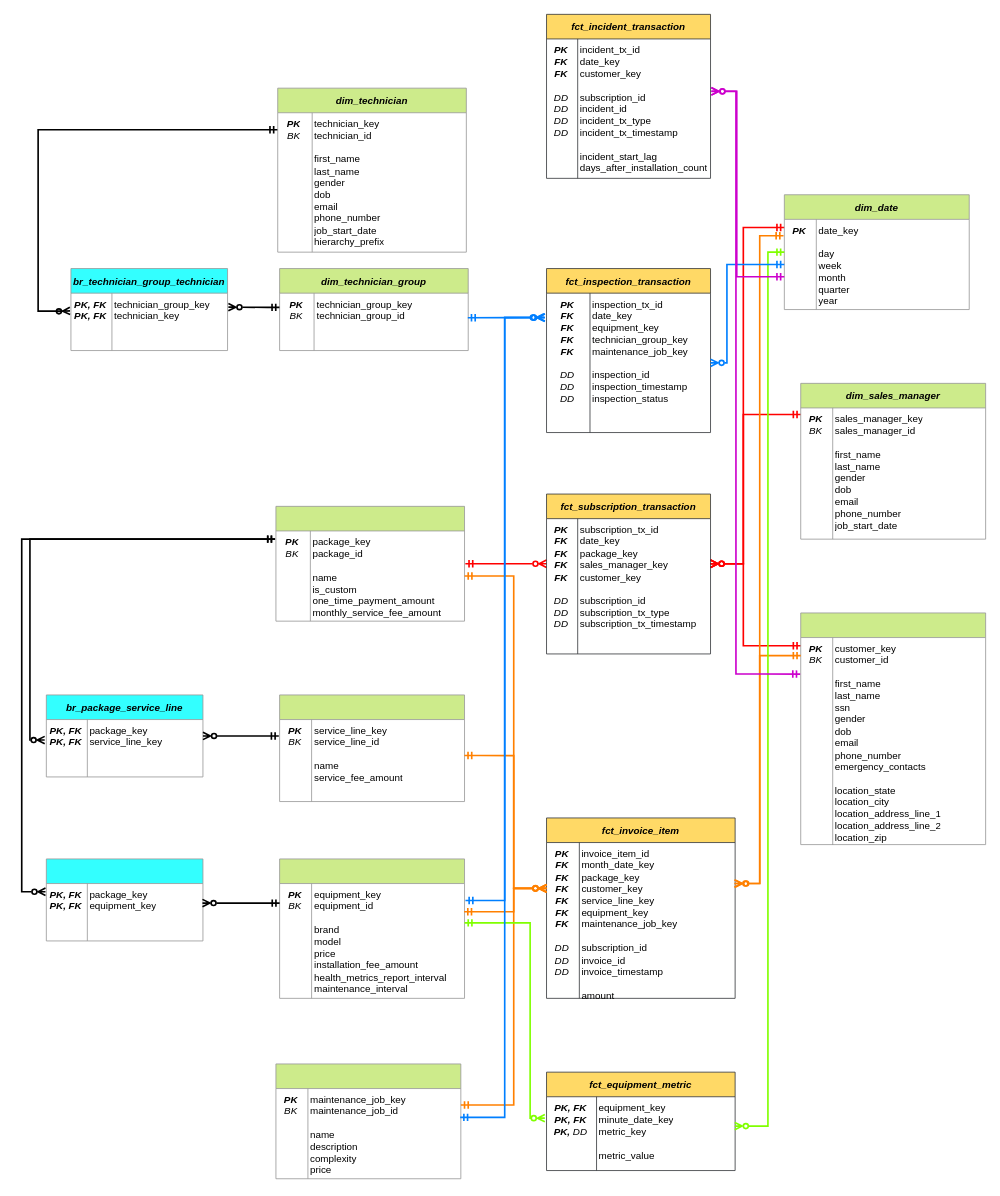
The diagram is 1000 pixels wide and 1196 high, and some of its shapes have lost their labels. The shapes that lost their labels are listed below. From the top down, each one's box as (x1, y1, x2, y2) in pixels, then its label:
(275, 506, 465, 621): dim_package
(279, 694, 465, 802): dim_service_line
(800, 612, 986, 845): dim_customer
(46, 858, 203, 941): br_package_equipment
(279, 858, 465, 998): dim_equipment
(275, 1063, 461, 1179): dim_maintenance_job
